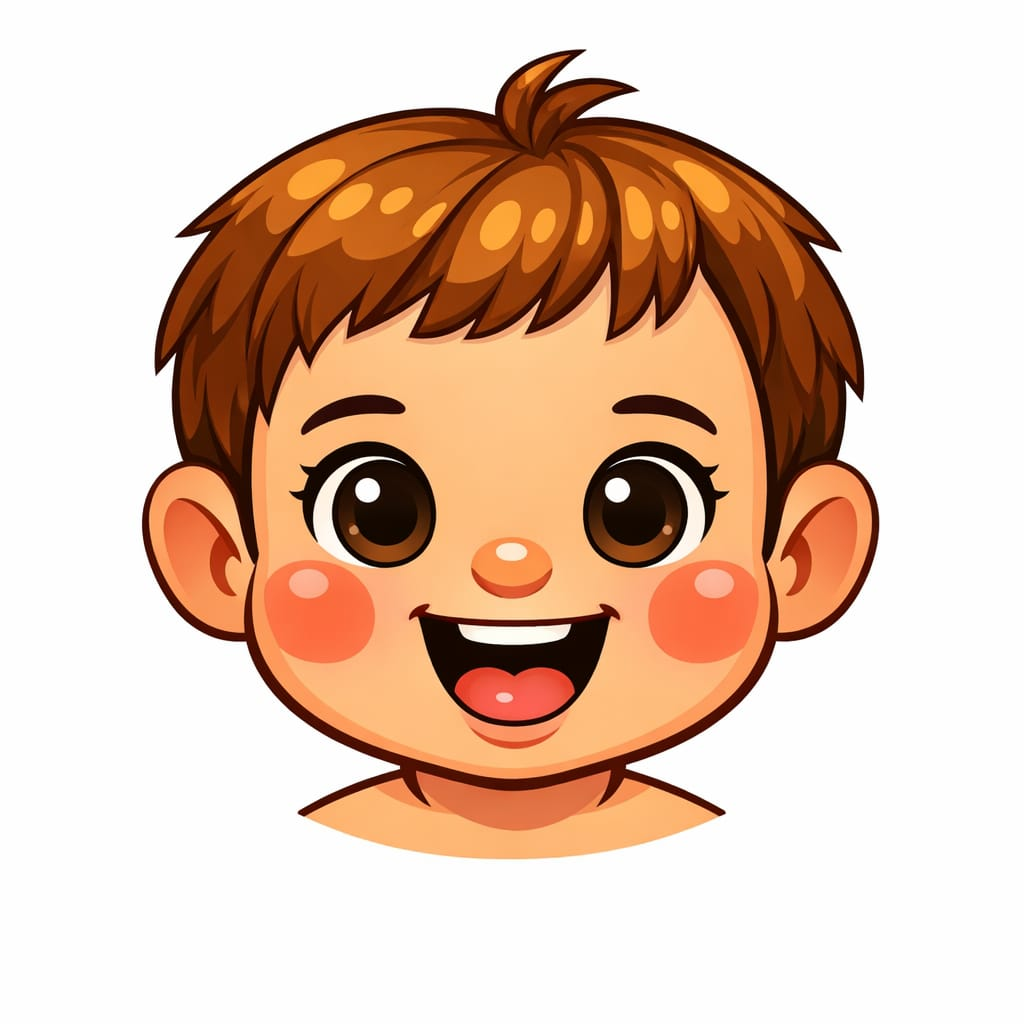Ken: (366, 730, 657, 794)
Mond: (391, 597, 643, 726)
Neus: (458, 508, 573, 628)
Oog: (270, 406, 458, 595), (553, 419, 735, 591)
Oor: (77, 427, 282, 685), (761, 444, 902, 669)
Wang: (233, 553, 391, 676), (638, 558, 776, 673)
Wenkbrou: (550, 360, 765, 466), (264, 362, 455, 454)
